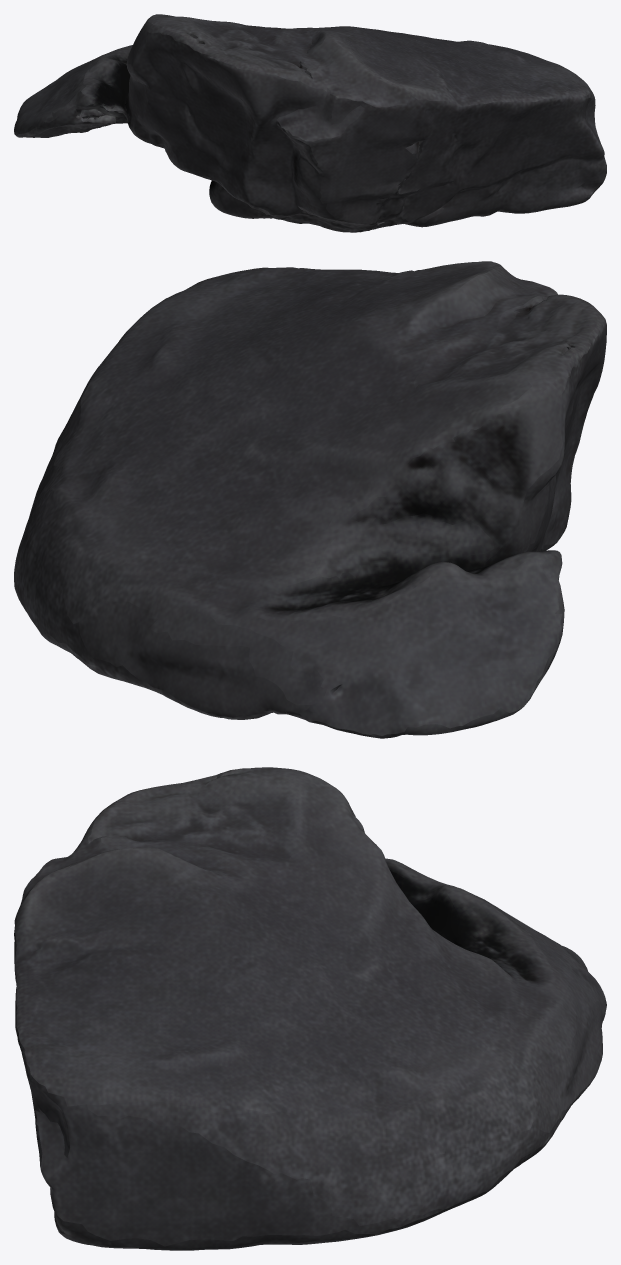
3 views of the same model, one above another, from view 1: azimuth 30°, elevation 25°; view 2: azimuth 150°, elevation 25°; view 3: azimuth 270°, elevation 25° (orthographic). The views are drawn at different scales.
Visible parts, largest first — view 1: world; view 2: world; view 3: world.
Boxes of the visible parts, x1,y1,x2,y2 form: world: [14, 14, 606, 232]; world: [14, 261, 606, 738]; world: [14, 767, 606, 1250].
Size of the model in its own units: 2.5 by 1.17 by 2.36.
Materials: 1 (1 with a texture image).
